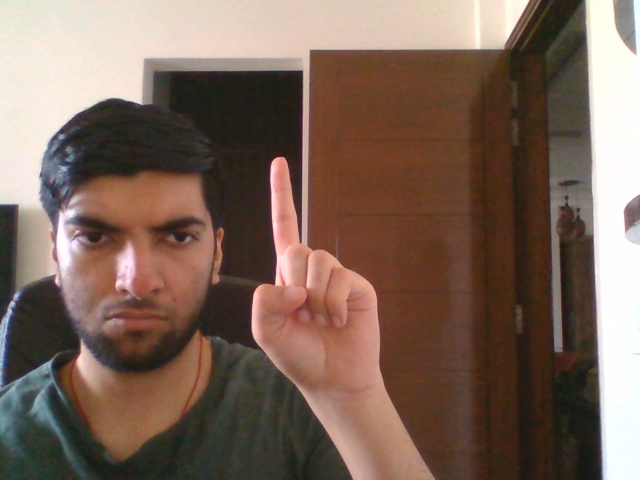LetterD: (250, 156, 382, 391)
